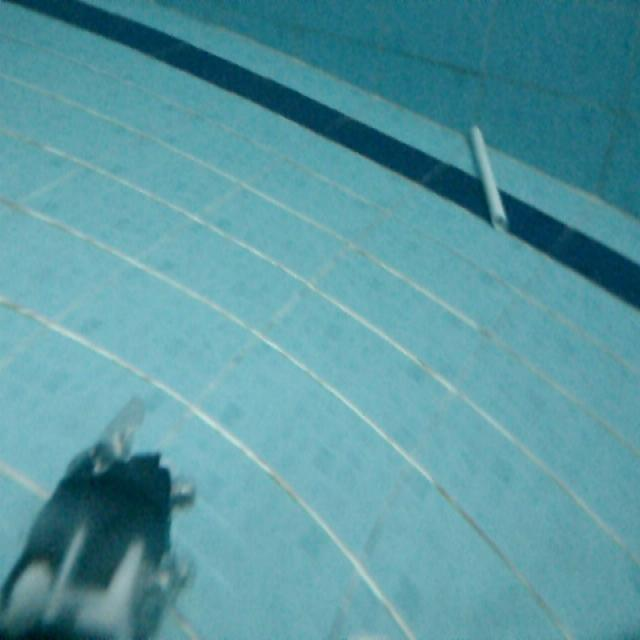Cube: (466, 119, 511, 233)
